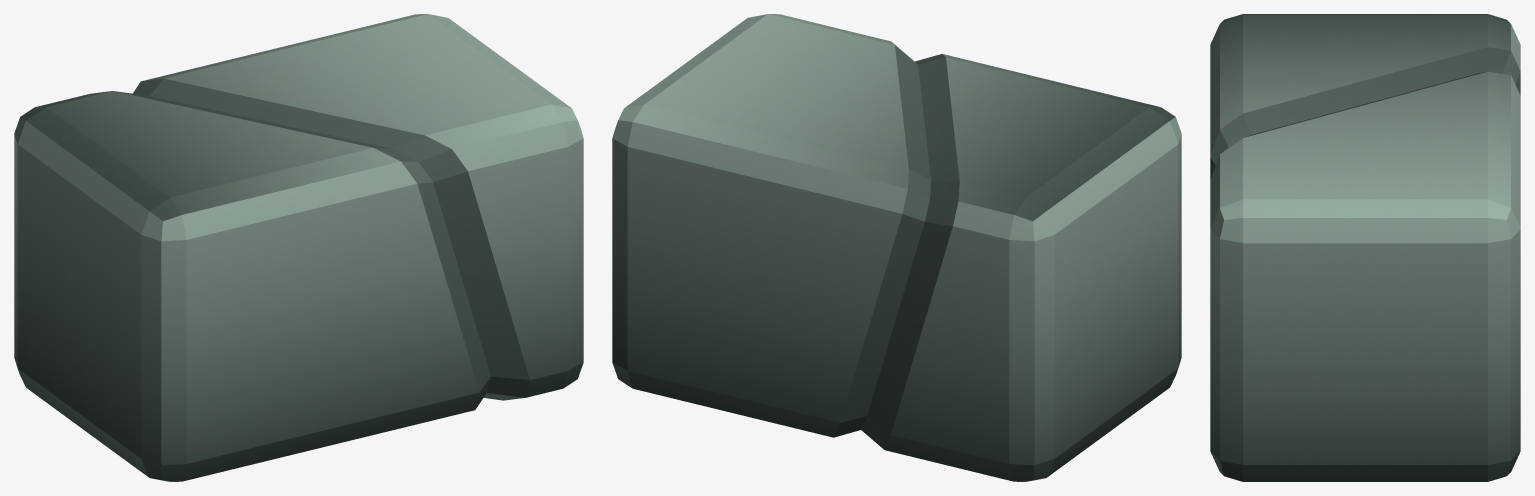
The model's file is block_001.fbx.
3 renders of one model, left to right at view 1: azimuth 30°, elevation 25°; view 2: azimuth 150°, elevation 25°; view 3: azimuth 270°, elevation 25°, orthographic.
Visible parts, largest first — view 1: block.001; view 2: block.001; view 3: block.001.
Part boxes in pixels (bbox=[...]): block.001: bbox=[14, 14, 583, 481]; block.001: bbox=[612, 14, 1181, 481]; block.001: bbox=[1210, 14, 1520, 481].
Size of the model in its own units: 251 by 156 by 156.
